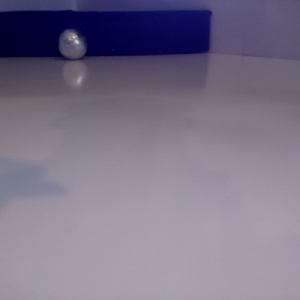zone: (1, 9, 211, 57)
